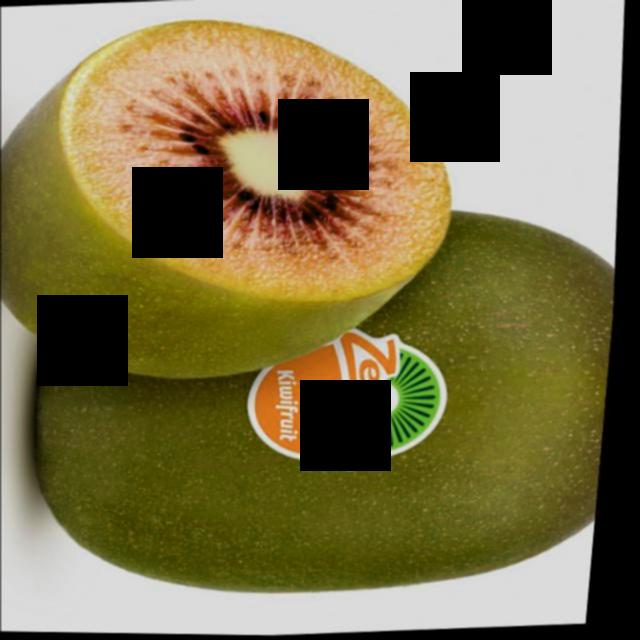kiwi: (18, 176, 628, 615)
